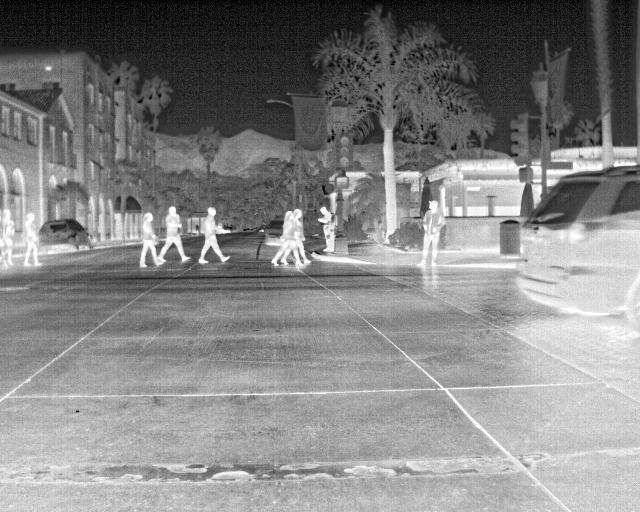bicycle: (513, 164, 639, 332), (40, 218, 91, 254), (259, 219, 282, 245)
empty: (196, 204, 232, 267), (416, 197, 446, 267), (272, 210, 306, 269), (160, 203, 191, 265), (136, 209, 162, 272), (21, 212, 42, 270), (0, 208, 18, 266), (316, 205, 335, 257)
